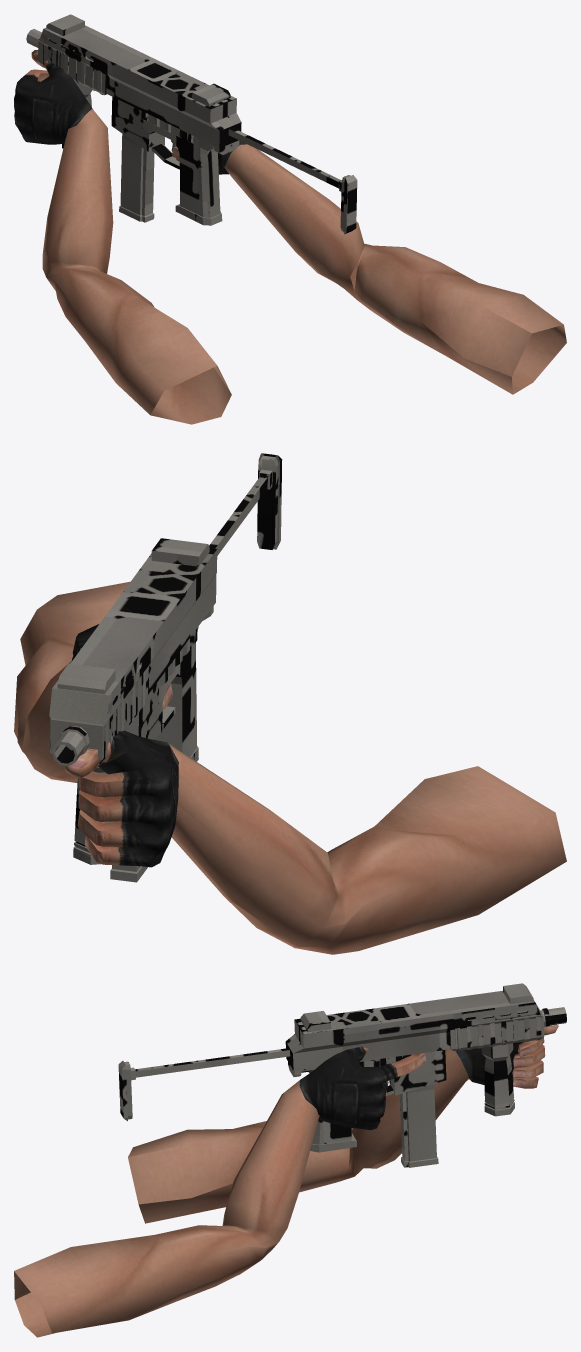
File: gun_smg.glb
3 views of the same model, one above another, from view 1: azimuth 30°, elevation 25°; view 2: azimuth 150°, elevation 25°; view 3: azimuth 270°, elevation 25° (orthographic). The views are drawn at different scales.
Visible parts, largest first — view 1: body_ARMS, body_QUAT, mag_QUAT, body_QUATP; view 2: body_ARMS, body_QUAT, body_QUATP; view 3: body_ARMS, body_QUAT, mag_QUAT, body_QUATP.
Part boxes in pixels (x1=…): body_ARMS: x1=14, y1=50, x2=566, y2=424; body_QUAT: x1=26, y1=14, x2=357, y2=234; mag_QUAT: x1=120, y1=134, x2=154, y2=218; body_QUATP: x1=38, y1=41, x2=193, y2=151; body_ARMS: x1=14, y1=581, x2=566, y2=954; body_QUAT: x1=49, y1=453, x2=282, y2=864; body_QUATP: x1=50, y1=628, x2=197, y2=763; body_ARMS: x1=14, y1=1024, x2=558, y2=1337; body_QUAT: x1=118, y1=983, x2=566, y2=1152; mag_QUAT: x1=400, y1=1084, x2=436, y2=1161; body_QUATP: x1=363, y1=1004, x2=544, y2=1066.
Size of the model in its own units: 62.9 by 40.28 by 80.83.
Materials: 3 (3 with a texture image).
